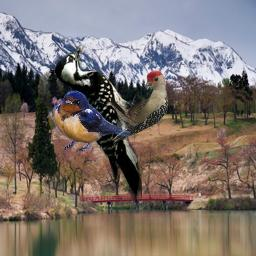Swallow: (49, 90, 131, 153)
Woodpecker: (53, 42, 142, 207), (111, 70, 168, 145)
